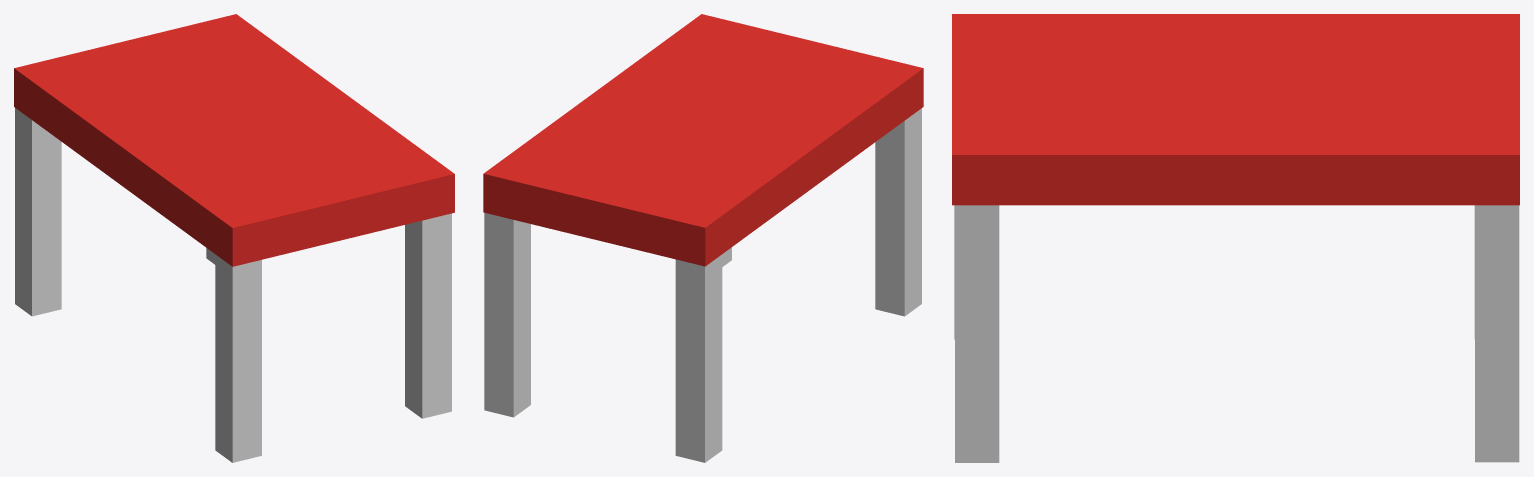
The model's file is table.fbx.
The picture shows the model from 3 angles, left to right: view 1: azimuth 30°, elevation 25°; view 2: azimuth 150°, elevation 25°; view 3: azimuth 270°, elevation 25°; orthographic projection. The views are drawn at different scales.
Visible parts, largest first — view 1: Cube; view 2: Cube; view 3: Cube.
Boxes of the visible parts, x1=… form: Cube: x1=14, y1=14, x2=454, y2=462; Cube: x1=483, y1=14, x2=923, y2=462; Cube: x1=952, y1=14, x2=1519, y2=462.
Bounding box in the file's own units: 120 × 123 × 204.
